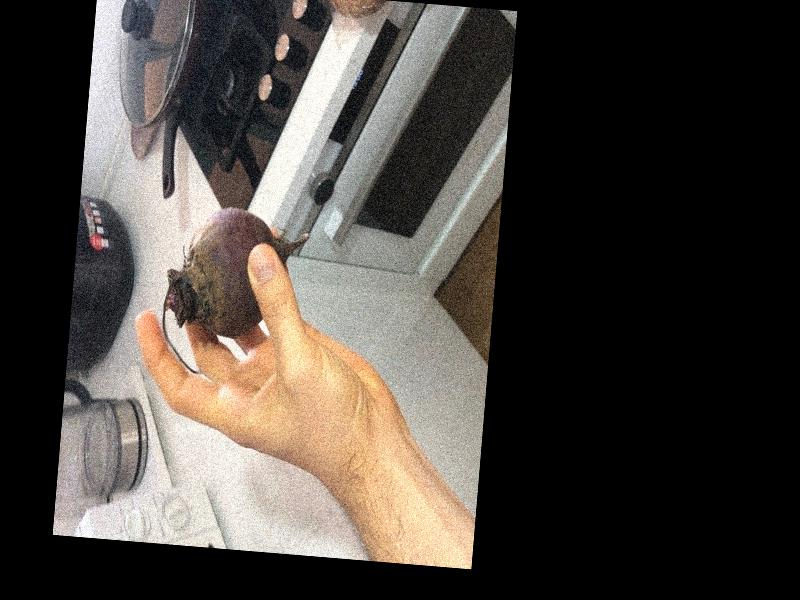Beet: (158, 203, 311, 379)
